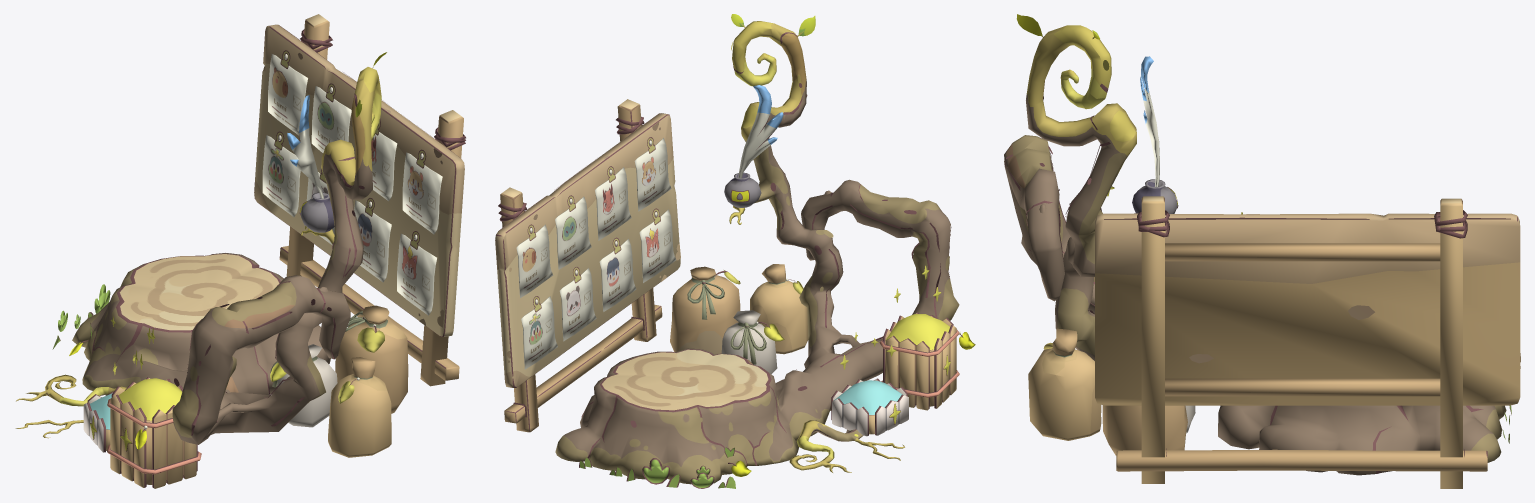
The model's file is Mesh_Home_Order_SM.FBX.
3 renders of one model, left to right at view 1: azimuth 30°, elevation 25°; view 2: azimuth 150°, elevation 25°; view 3: azimuth 270°, elevation 25°, orthographic. The views are drawn at different scales.
Visible parts, largest first — view 1: Mesh_Home_Order; view 2: Mesh_Home_Order; view 3: Mesh_Home_Order.
Boxes of the visible parts, x1,y1,x2,y2 form: Mesh_Home_Order: (15,14,465,488); Mesh_Home_Order: (495,14,975,488); Mesh_Home_Order: (1004,14,1520,488).
Size of the model in its own units: 342 by 323 by 360.
Materials: 1 (1 with a texture image).
